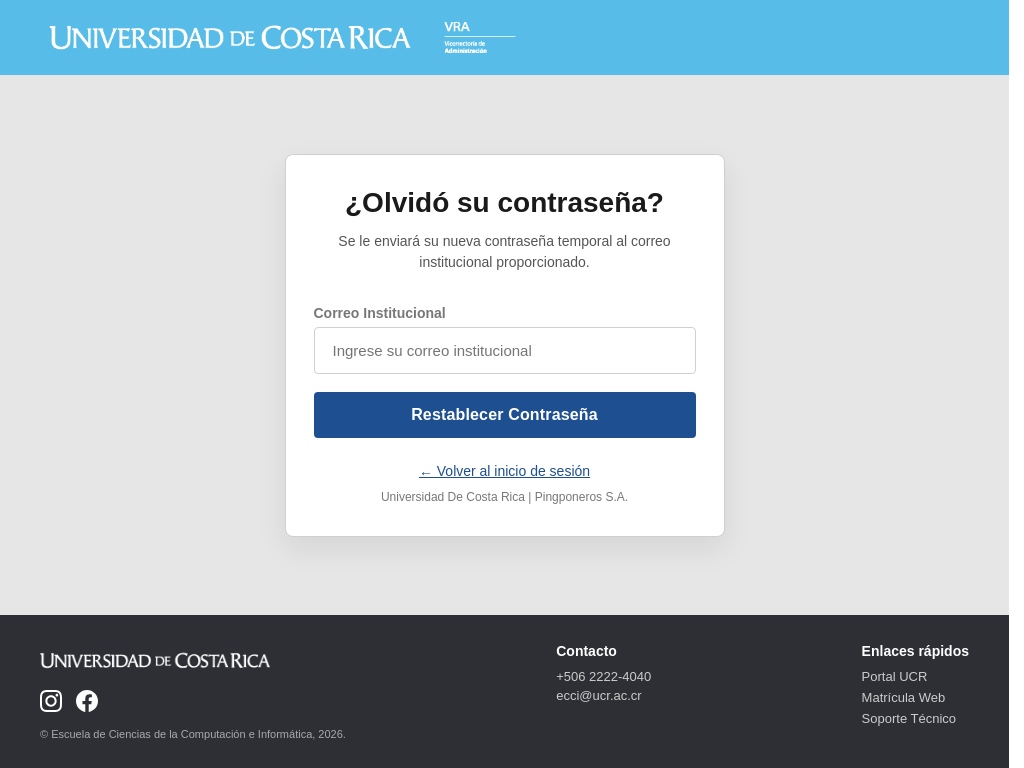
Scenario: ForgotPassword Page › muestra error cuando el correo está vacío
Click the button "Restablecer Contraseña" at x=504, y=414, box [314, 392, 696, 438]
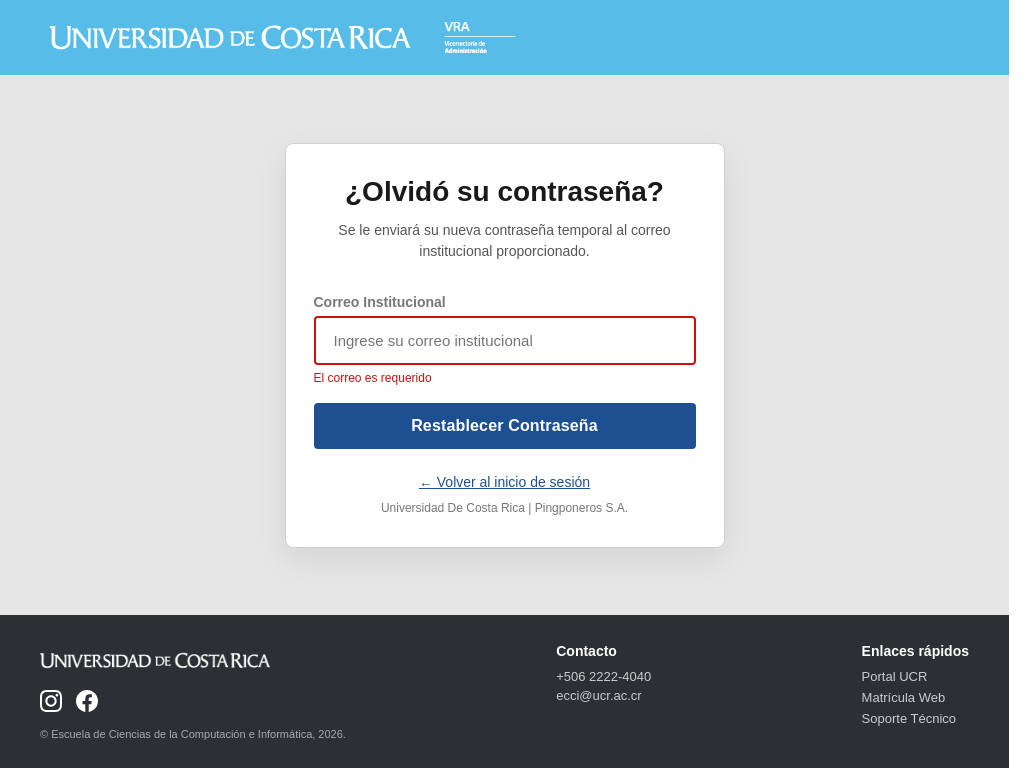
Expected: the text "El correo es requerido" is shown, [314, 370, 432, 384]
